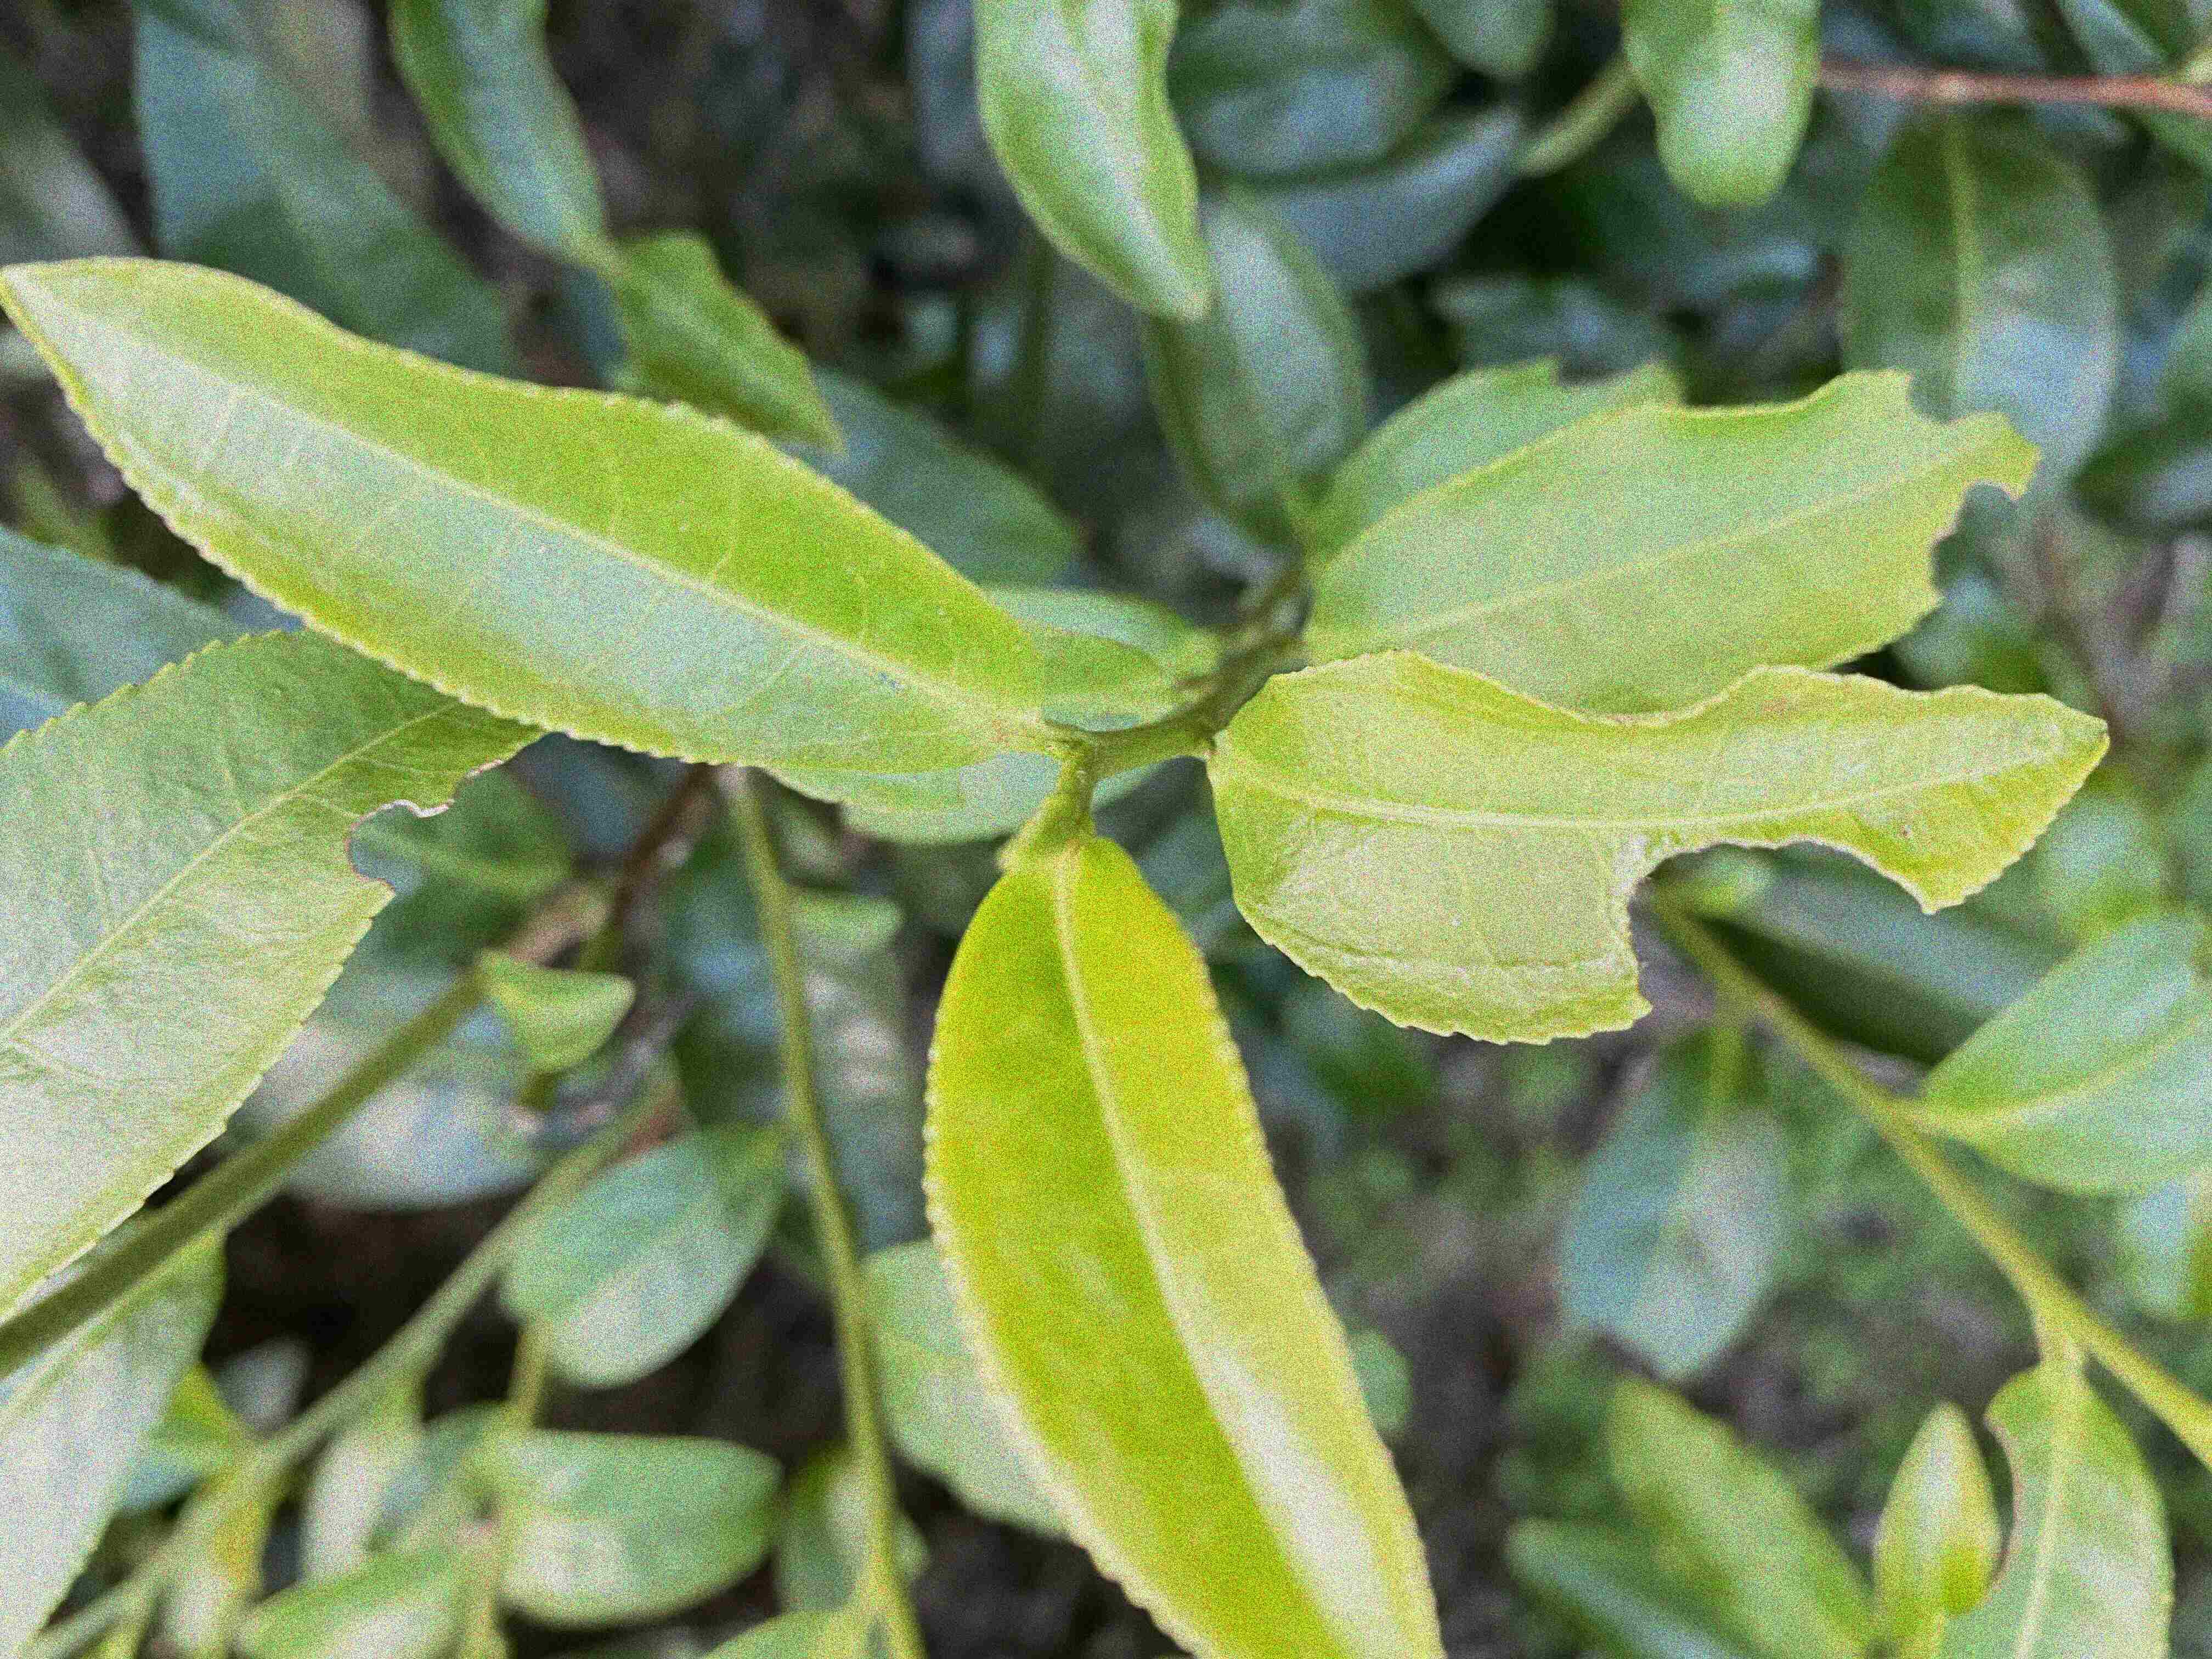chihuo_high: (1211, 643, 2114, 1046), (1303, 368, 2041, 709)
chihuo_low: (3, 624, 549, 1319)
healthy: (3, 247, 1059, 782), (913, 824, 1449, 1654)
